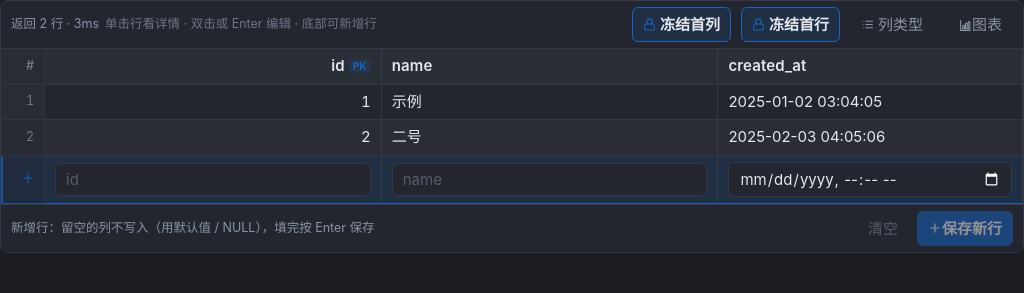
Test: 单击行详情 / 双击编辑 › 单击行后打开行详情面板
The width and height of the screenshot is (1024, 293).
What coordinates should you click on to do the following:
click the row with class "data-row" showing "1 1 示例 2025-01-02 03:04:05"
I would click on:
 (512, 102)
Its box is [1,84,1023,120].
Wait 300 ms
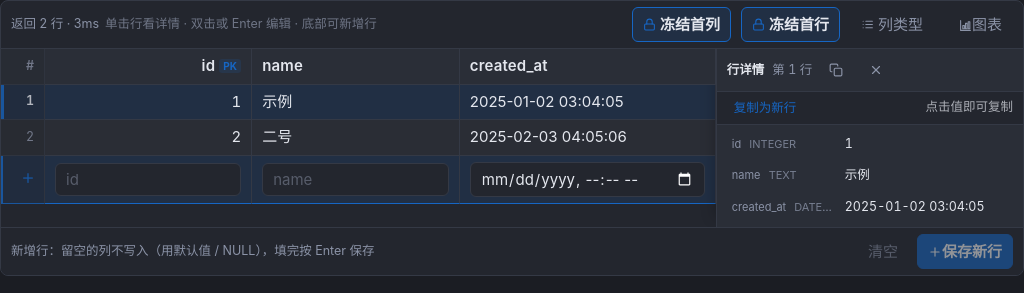
expect the element with class "row-detail" is shown: met, box [716,49,1023,227]
